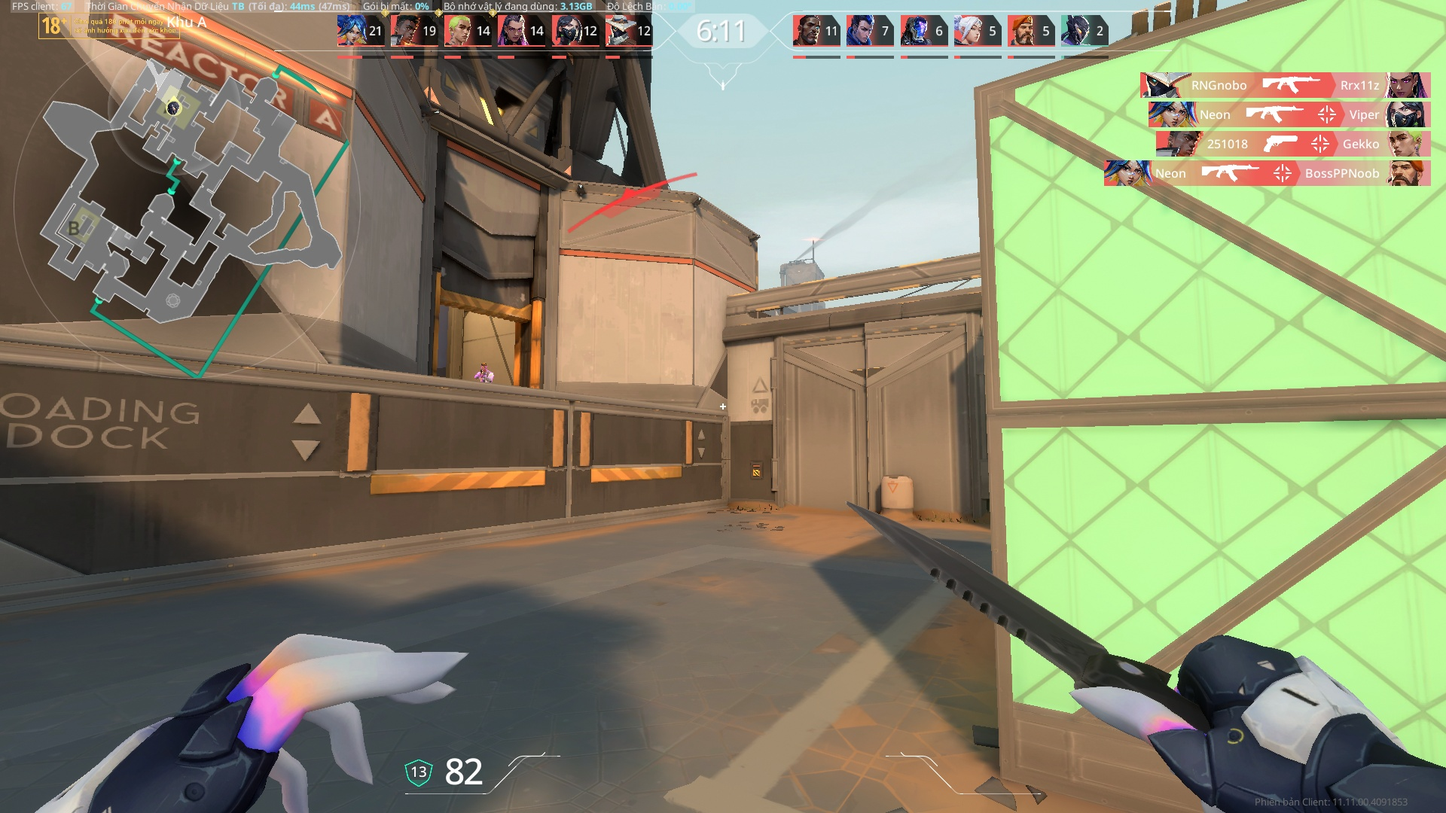body: (474, 367, 494, 381)
head: (478, 359, 488, 369)
